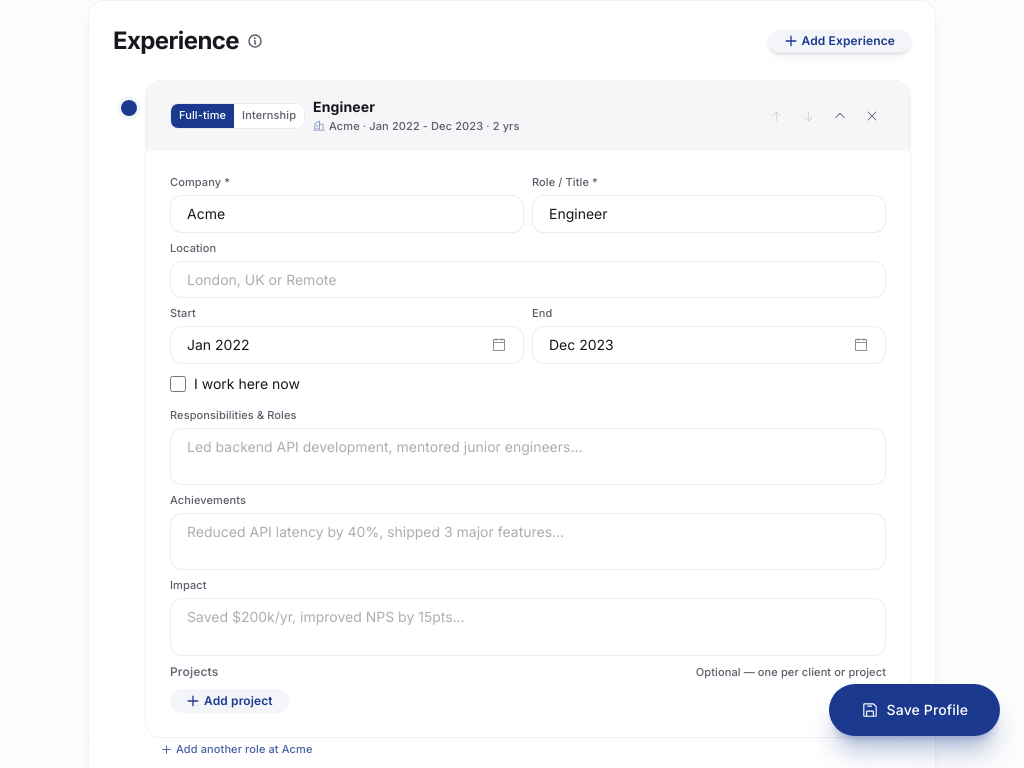
Test: My Profile — experience dates › 'I work here now' shows Present, and unticking brings back the typed end date
The image size is (1024, 768).
(page scrolled)
Check: the button with aria-label "End: Dec 2023" is shown, box [532,326,886,364]
Click the checkbox labelled "I work here now" at x=178, y=384, box [170,376,186,392]
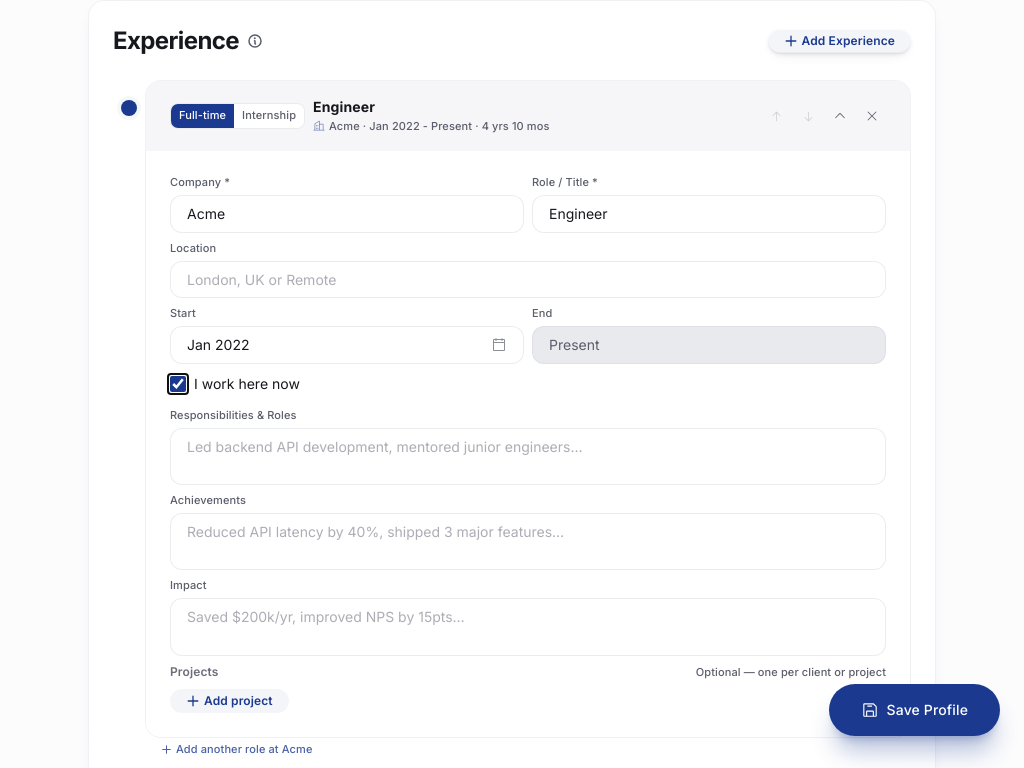
Check: the field labelled "End" holds "Present", box [532,326,886,364]
Click the checkbox labelled "I work here now" at x=178, y=384, box [170,376,186,392]
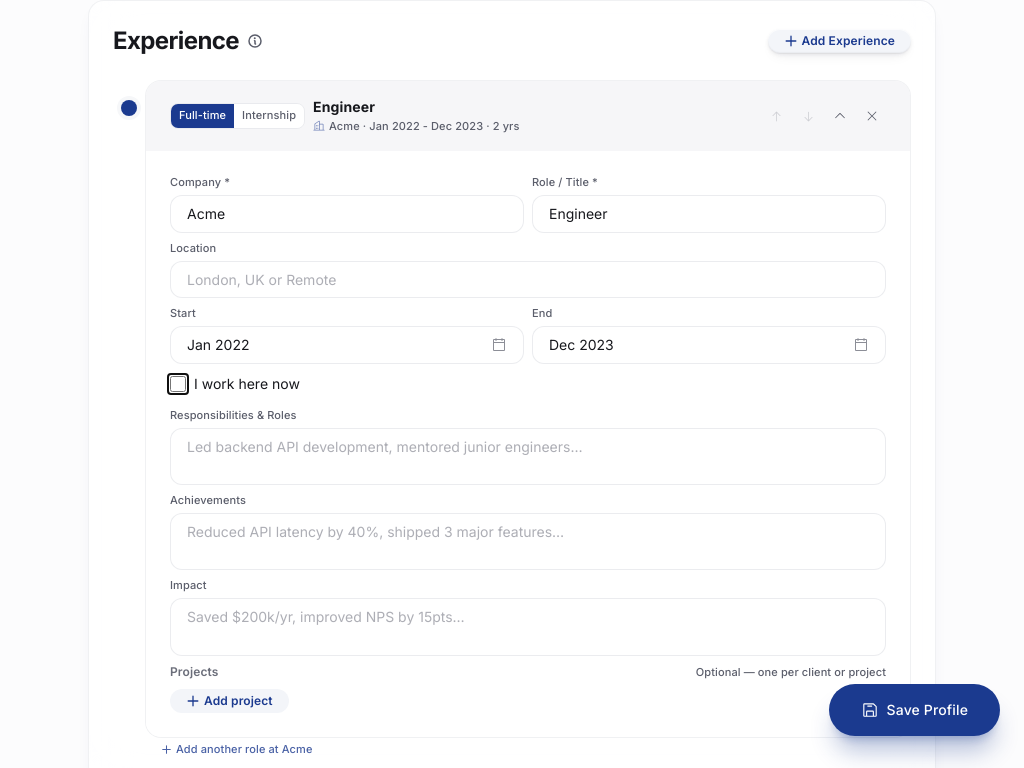
Check: the button with aria-label "End: Dec 2023" is shown, box [532,326,886,364]
